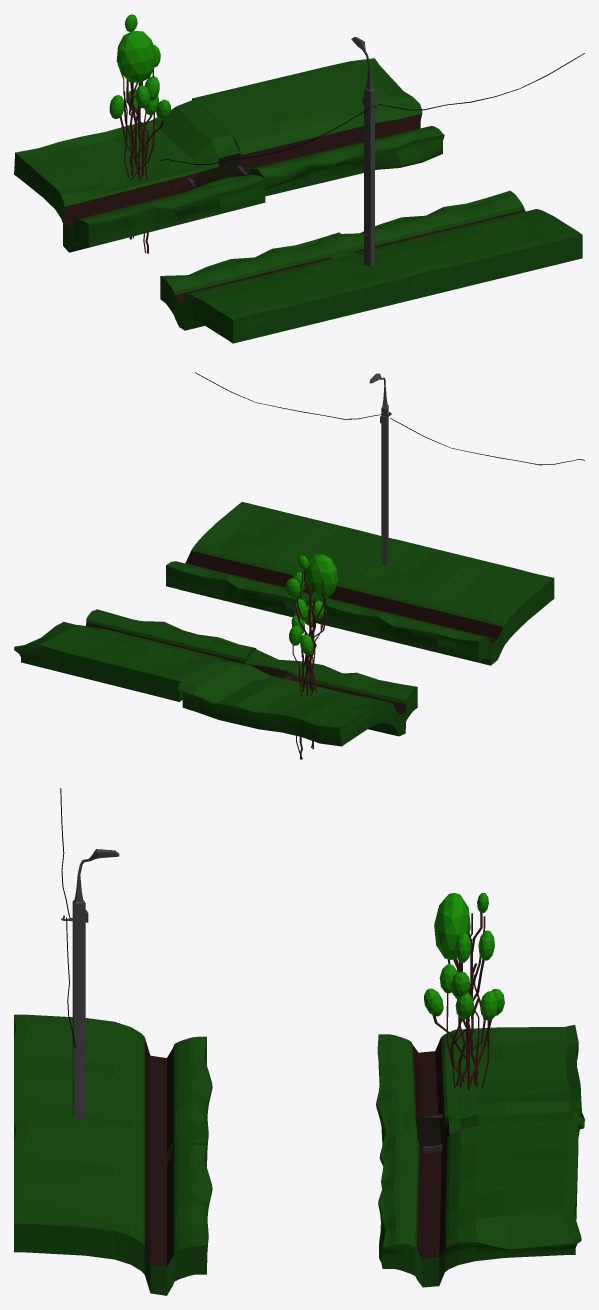
The model's file is road.fbx.
3 views of the same model, one above another, from view 1: azimuth 30°, elevation 25°; view 2: azimuth 150°, elevation 25°; view 3: azimuth 270°, elevation 25° (orthographic). The views are drawn at different scales.
Visible parts, largest first — view 1: Cube.002, Cube.004, Cube.003, Cube.001, Cube.006, Cylinder.002, Icosphere.003; view 2: Cube.003, Cube.002, Cube.001, Cube.004, Cylinder.002, Cube.006, Icosphere.003; view 3: Cube.004, Cube.001, Cube.003, Cube.002, Cube.006, Cylinder.002, Icosphere.003.
Boxes of the visible parts, bbox=[...] form: Cube.002: bbox=[14, 99, 265, 252]; Cube.004: bbox=[192, 58, 444, 196]; Cube.003: bbox=[160, 232, 411, 343]; Cube.001: bbox=[331, 190, 582, 301]; Cube.006: bbox=[351, 37, 377, 266]; Cylinder.002: bbox=[117, 64, 164, 253]; Icosphere.003: bbox=[116, 30, 156, 82]; Cube.003: bbox=[319, 541, 554, 665]; Cube.002: bbox=[177, 649, 417, 746]; Cube.001: bbox=[166, 502, 401, 628]; Cube.004: bbox=[14, 609, 256, 701]; Cylinder.002: bbox=[292, 570, 327, 759]; Cube.006: bbox=[369, 373, 391, 565]; Icosphere.003: bbox=[305, 554, 337, 599]; Cube.004: bbox=[378, 1119, 581, 1287]; Cube.001: bbox=[14, 1116, 212, 1295]; Cube.003: bbox=[14, 1014, 212, 1164]; Cube.002: bbox=[376, 1025, 584, 1148]; Cube.006: bbox=[61, 849, 119, 1118]; Cylinder.002: bbox=[432, 913, 491, 1090]; Icosphere.003: bbox=[434, 893, 470, 959].
Size of the model in its own units: 3833 by 2610 by 3597.
